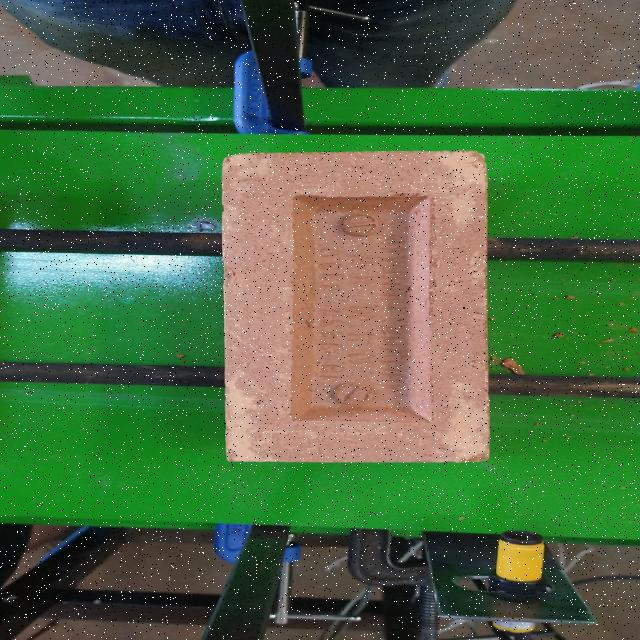bricks: (222, 150, 486, 461)
